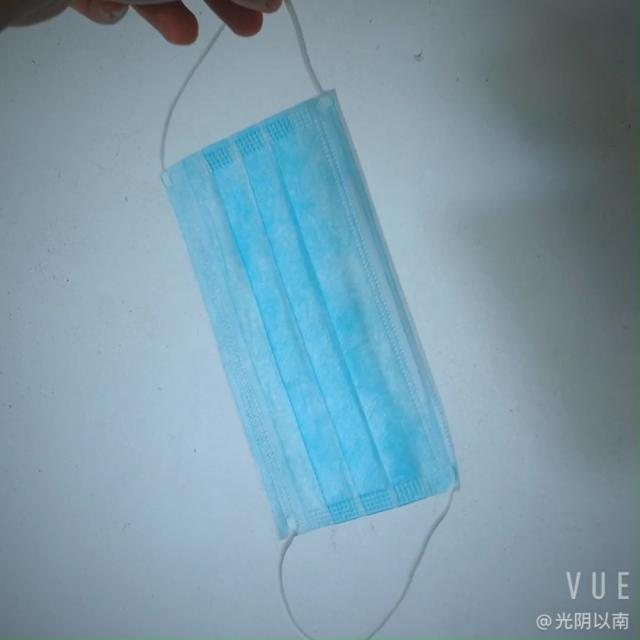non-organic waste: (159, 75, 453, 528)
